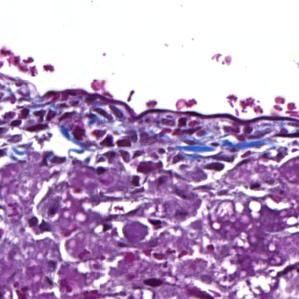inflammation: (95, 201, 166, 251), (1, 98, 62, 136)
